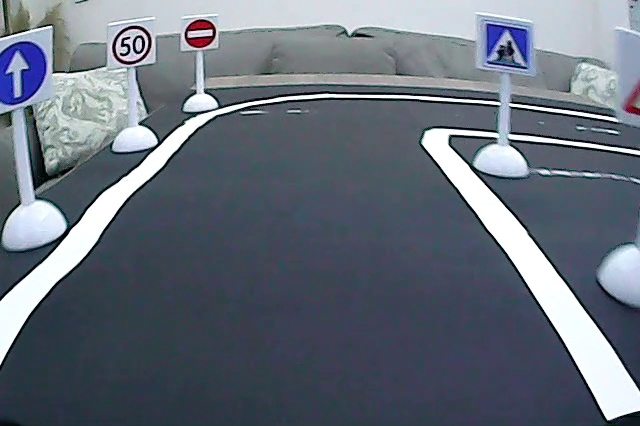do not enter: (183, 16, 218, 51)
school crossing: (480, 17, 533, 74)
speed limit 50: (109, 22, 153, 66)
